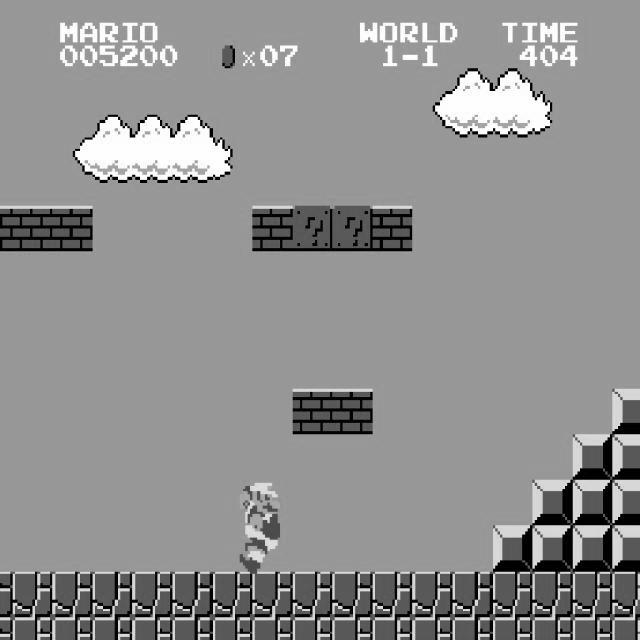1- brick_block: (292, 388, 333, 434), (332, 388, 373, 434), (12, 206, 53, 251), (52, 206, 93, 251), (252, 206, 293, 251), (372, 206, 413, 251), (0, 206, 13, 251)
13- mystery_block: (292, 206, 333, 251), (332, 206, 373, 251)
17- undestructible_block: (12, 572, 53, 618), (52, 572, 93, 618), (92, 572, 133, 618), (132, 572, 173, 618), (172, 572, 213, 618), (212, 572, 253, 618), (252, 572, 293, 618), (292, 572, 333, 618), (332, 572, 373, 618), (372, 572, 413, 618), (412, 572, 453, 618), (452, 572, 493, 618), (492, 572, 533, 618), (532, 572, 573, 618), (572, 572, 613, 618), (612, 572, 640, 618), (12, 617, 53, 640), (52, 617, 93, 640), (92, 617, 133, 640), (132, 617, 173, 640), (172, 617, 213, 640), (212, 617, 253, 640), (252, 617, 293, 640), (292, 617, 333, 640), (332, 617, 373, 640), (372, 617, 413, 640), (412, 617, 453, 640), (452, 617, 493, 640), (492, 617, 533, 640), (532, 617, 573, 640), (572, 617, 613, 640), (612, 617, 640, 640), (0, 572, 13, 618), (0, 617, 13, 640)
4- fire_mario: (237, 480, 280, 574)
9- hard_block: (492, 526, 533, 572), (532, 480, 573, 526), (532, 526, 573, 572), (572, 434, 613, 480), (572, 480, 613, 526), (572, 526, 613, 572), (612, 388, 640, 434), (612, 434, 640, 480), (612, 480, 640, 526), (612, 526, 640, 572)
